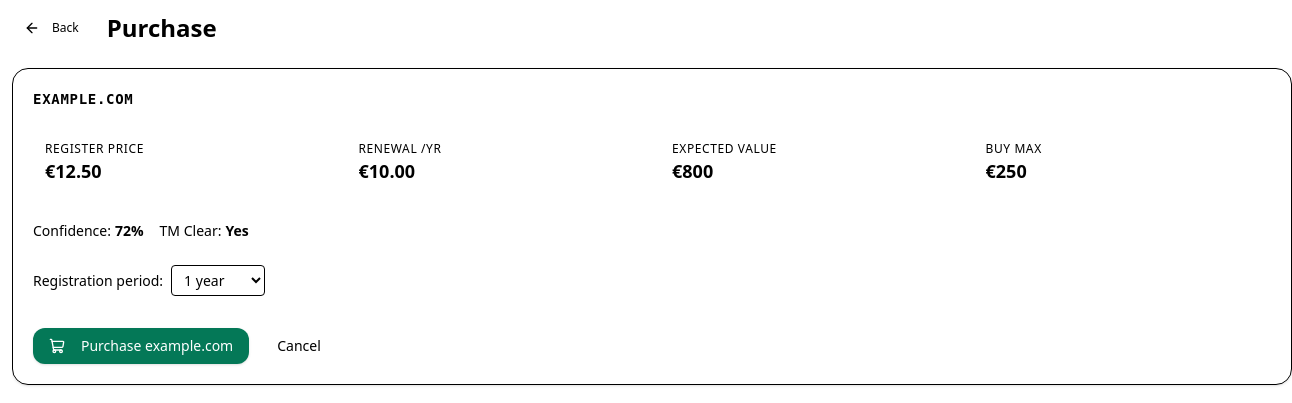
Test case: BuyPage › shows multi-year total when the registration period is changed
The width and height of the screenshot is (1292, 403).
Check: the text "€12.50" is shown, box [45,159,102,183]
Select "3 years" in the dropdown at (218, 280), box [171,265,265,296]
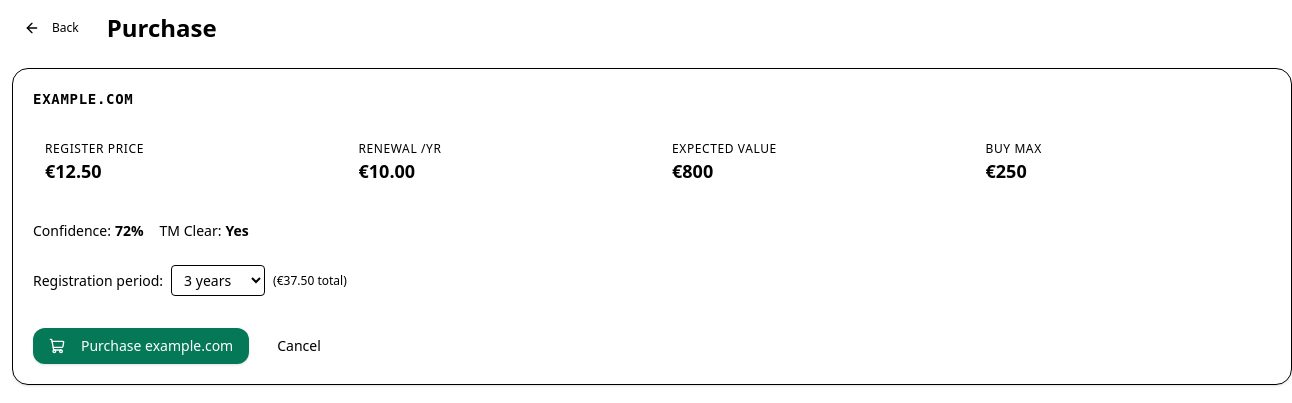
Check: the text "(€37.50 total)" is shown, box [273,272,347,288]
